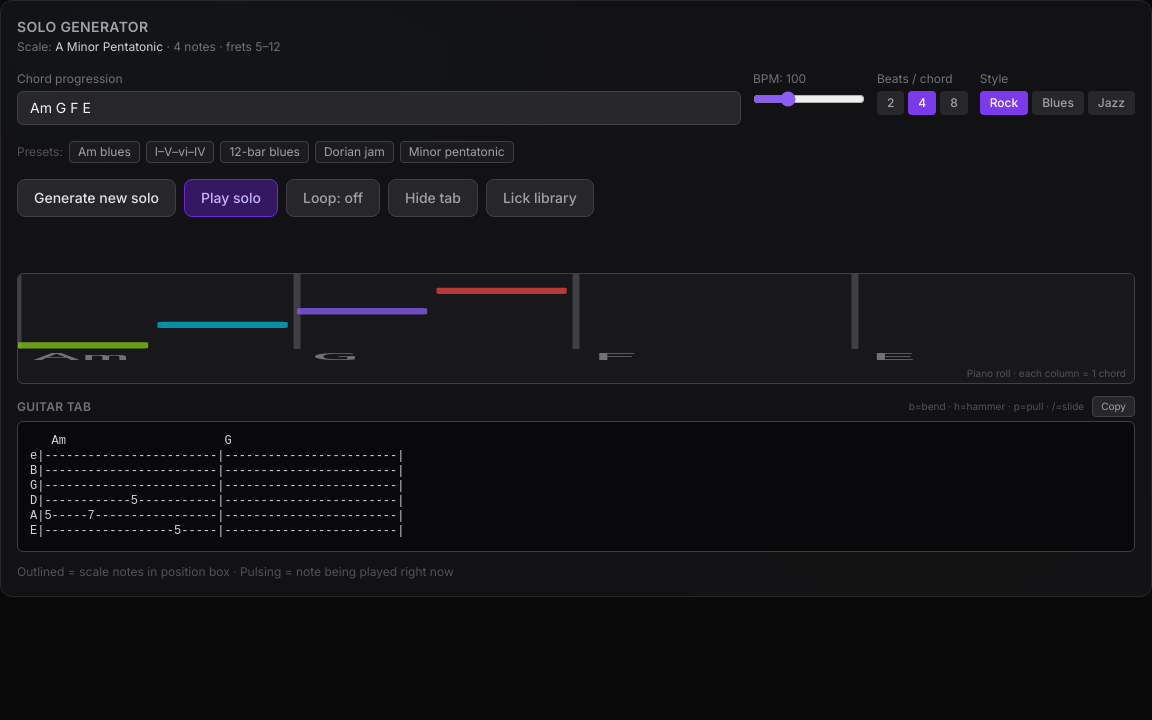
Test: SoloGenerator › copy button shows 'Copied!' after clicking
The image size is (1152, 720).
Tab is shown by default (showTab starts true)
Click the button "Copy": (1114, 406) [1092,396,1135,417]
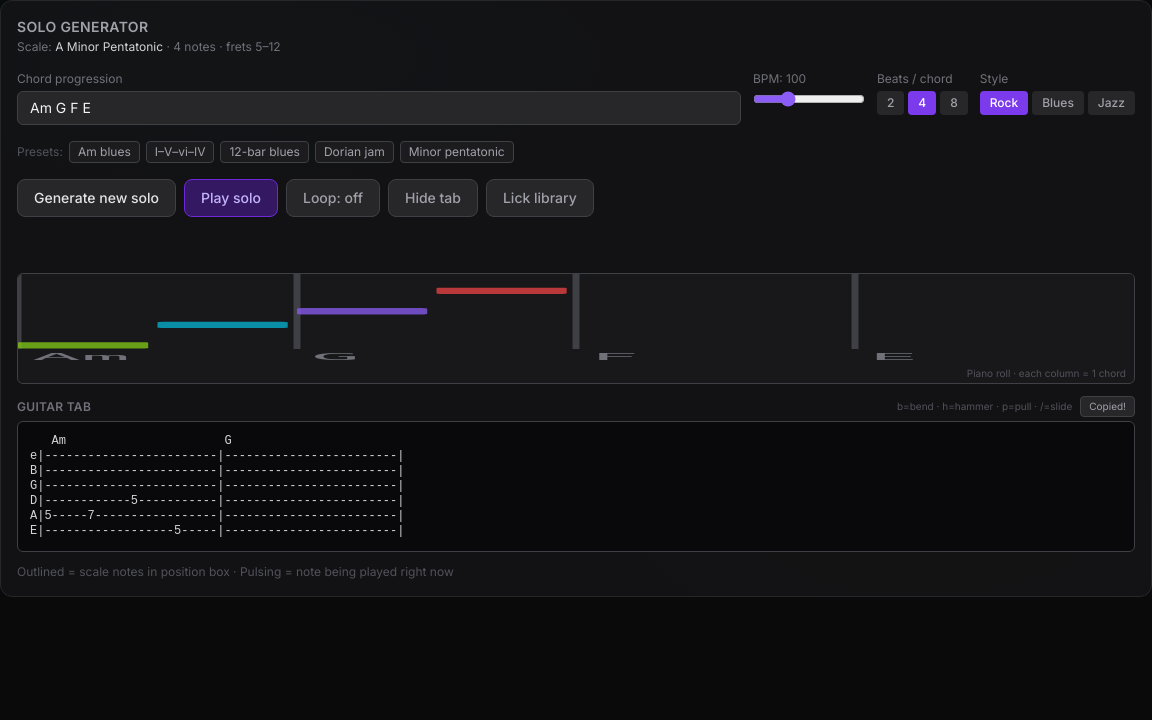
expect the button "Copied!" is shown: met, box [1080,396,1135,417]
